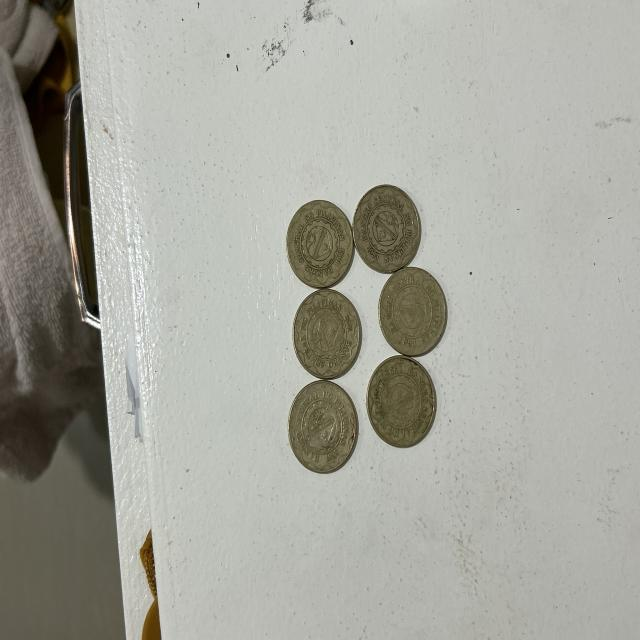5_Old_Back: (361, 351, 448, 451), (291, 282, 369, 378), (287, 376, 359, 476), (281, 195, 356, 288), (376, 260, 448, 352), (355, 184, 426, 276)
